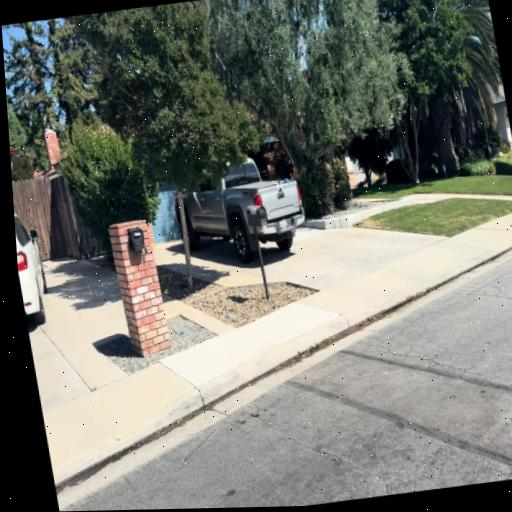target1: (277, 180, 284, 192)
